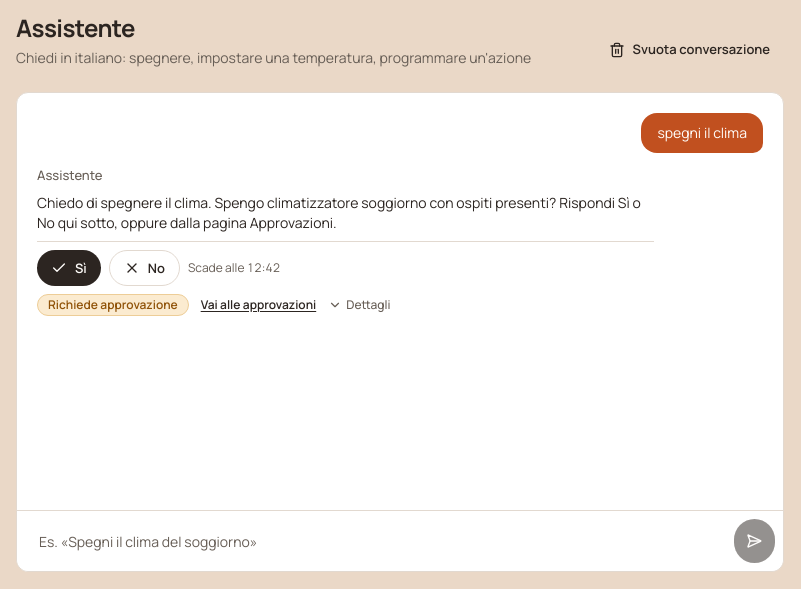
Assistente: conferma nella chat con ospiti presenti (D-154) › decisa altrove nel frattempo (409 already_closed): nessun errore, dice com'è andata
Click the button with test id "ask-confirm-yes-ask-0007".
click(69, 268)  # box [37,250,101,286]
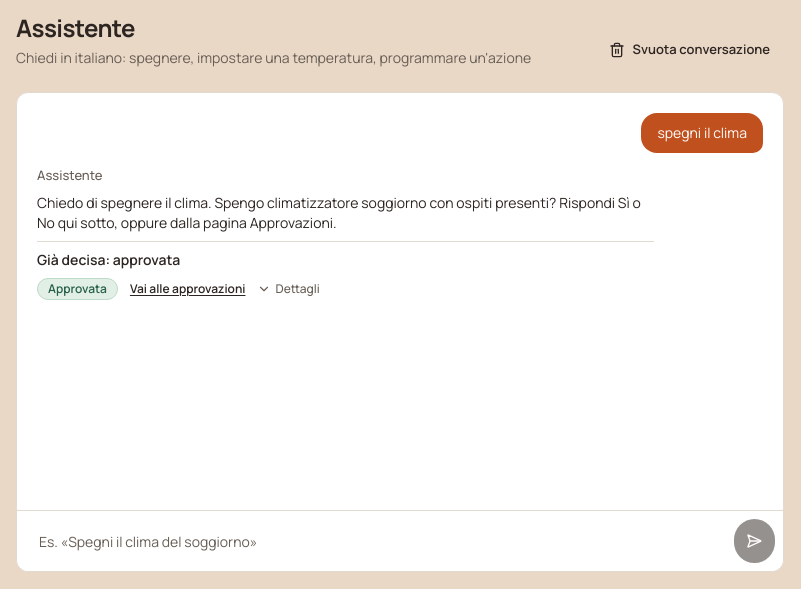
Now the text with test id "ask-confirm-closed-ask-0007" reads "Già decisa: approvata", box [37,250,180,269]
